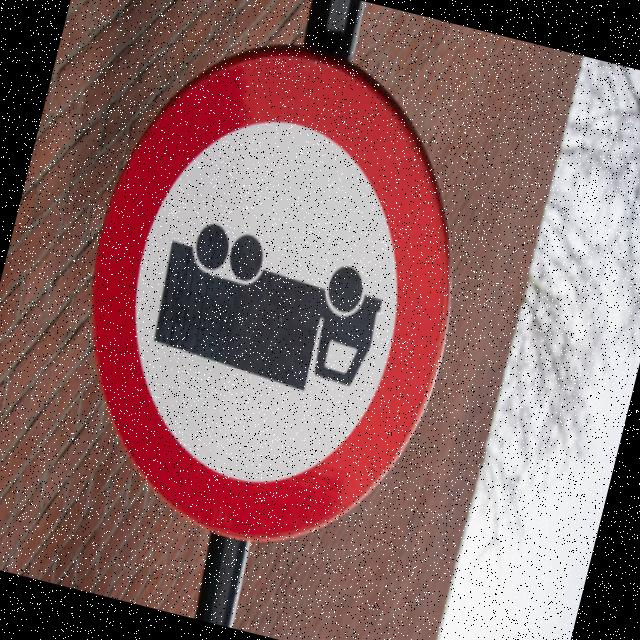do_not_enter: (30, 8, 513, 586)
